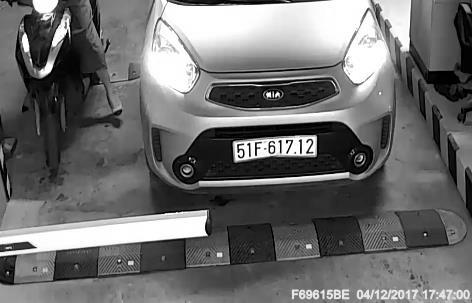License-plate: (232, 130, 324, 167)
